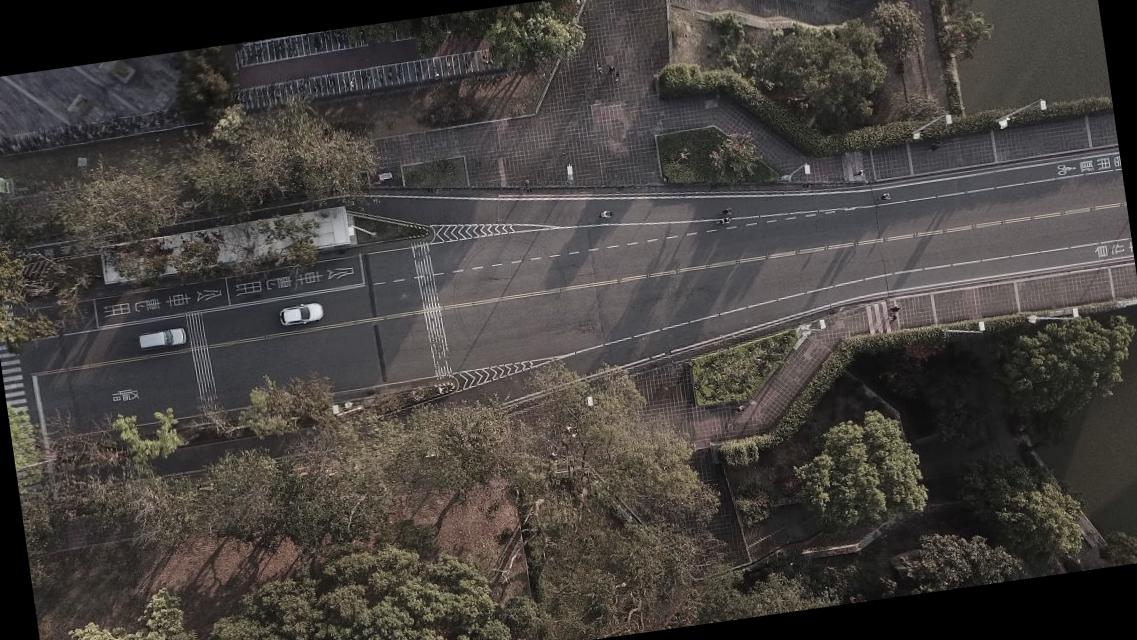vehicle: (278, 301, 325, 328), (137, 328, 187, 352)
